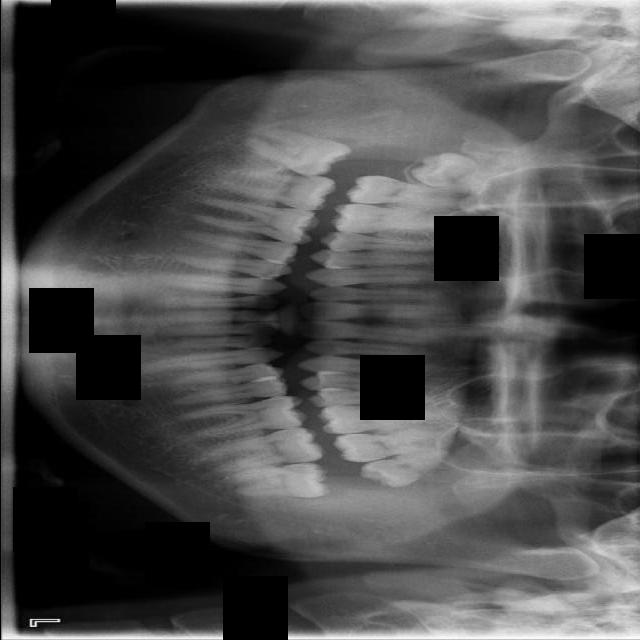3M ESPE Implant: (408, 147, 551, 201)
73: (74, 575, 74, 589)
BioHorizons Implant: (331, 424, 475, 465)
BioLife Implant: (357, 426, 485, 498)
Biomet 3i Implant: (216, 462, 333, 499)
Blue Sky Bio Implant: (201, 423, 327, 477)
Caries: (342, 173, 493, 211)
Implant: (218, 168, 339, 214)
Keystone Dental Implant: (241, 118, 354, 186)
